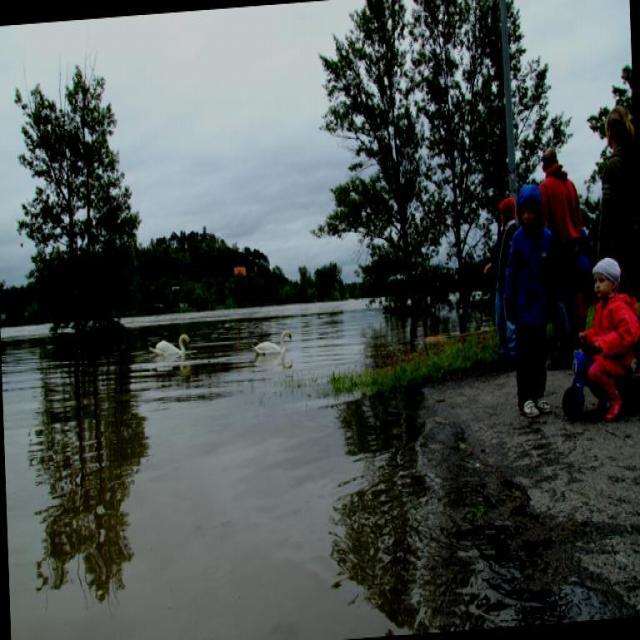flood: (0, 289, 425, 639)
